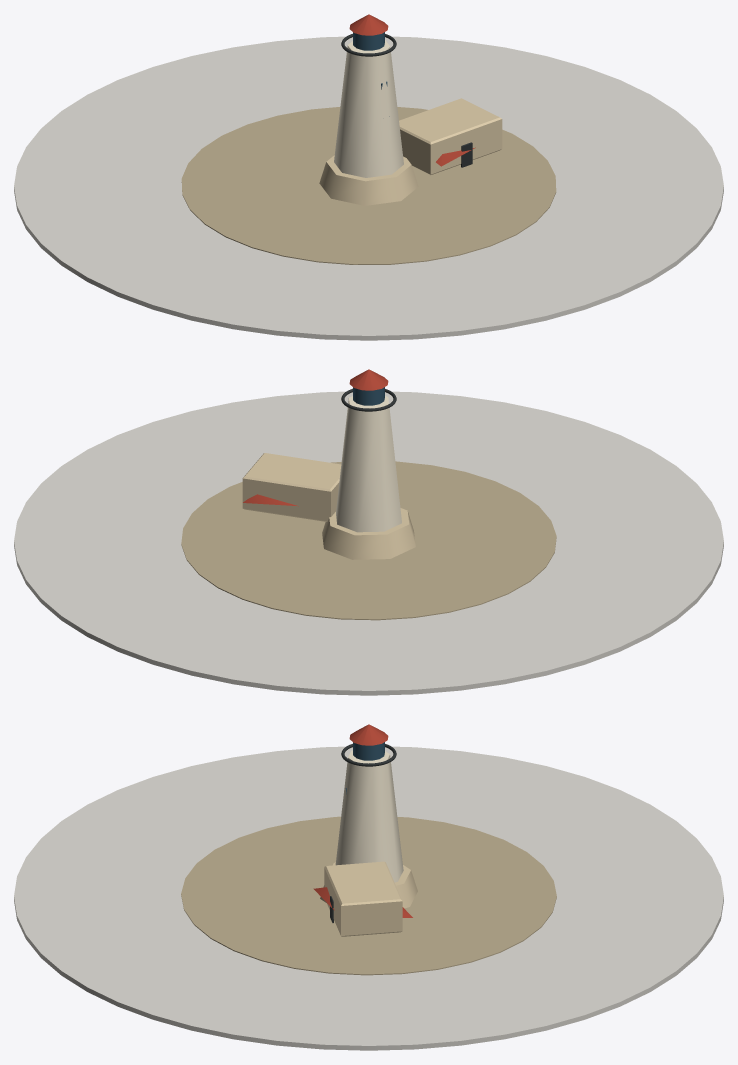
The model's file is farol-do-mucuripe.glb.
The picture shows the model from 3 angles, top to bottom: view 1: azimuth 30°, elevation 25°; view 2: azimuth 150°, elevation 25°; view 3: azimuth 270°, elevation 25°; orthographic projection.
Parts seen in each view (by area): view 1: Base_Pedestal, Terreno_Farol, Farol_Torre, Casa_Faroleiro, Farol_Base, Farol_Cupula; view 2: Base_Pedestal, Terreno_Farol, Farol_Torre, Casa_Faroleiro, Farol_Base, Farol_Cupula; view 3: Base_Pedestal, Terreno_Farol, Farol_Torre, Casa_Faroleiro, Farol_Base, Farol_Cupula.
Boxes of the visible parts, left/top/right/bottom form: Base_Pedestal: left=14, top=36, right=723, bottom=340; Terreno_Farol: left=181, top=107, right=556, bottom=264; Farol_Torre: left=334, top=40, right=403, bottom=177; Casa_Faroleiro: left=399, top=98, right=502, bottom=174; Farol_Base: left=319, top=155, right=418, bottom=205; Farol_Cupula: left=349, top=14, right=388, bottom=35; Base_Pedestal: left=14, top=391, right=723, bottom=695; Terreno_Farol: left=181, top=461, right=556, bottom=620; Farol_Torre: left=336, top=396, right=401, bottom=532; Casa_Faroleiro: left=242, top=453, right=341, bottom=521; Farol_Base: left=322, top=508, right=415, bottom=559; Farol_Cupula: left=349, top=369, right=388, bottom=390; Base_Pedestal: left=14, top=746, right=723, bottom=1050; Terreno_Farol: left=181, top=816, right=556, bottom=975; Farol_Torre: left=335, top=750, right=403, bottom=882; Casa_Faroleiro: left=324, top=861, right=402, bottom=936; Farol_Base: left=320, top=862, right=417, bottom=908; Farol_Cupula: left=349, top=724, right=388, bottom=745.
Bounding box in the file's own units: 68 × 18.65 × 68.
